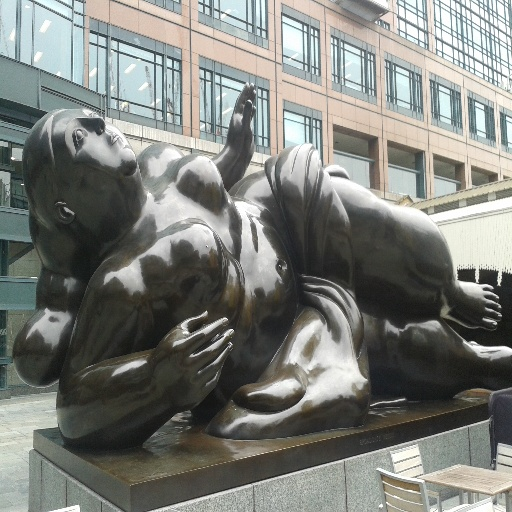hand: (125, 317, 242, 418), (226, 81, 257, 166)
